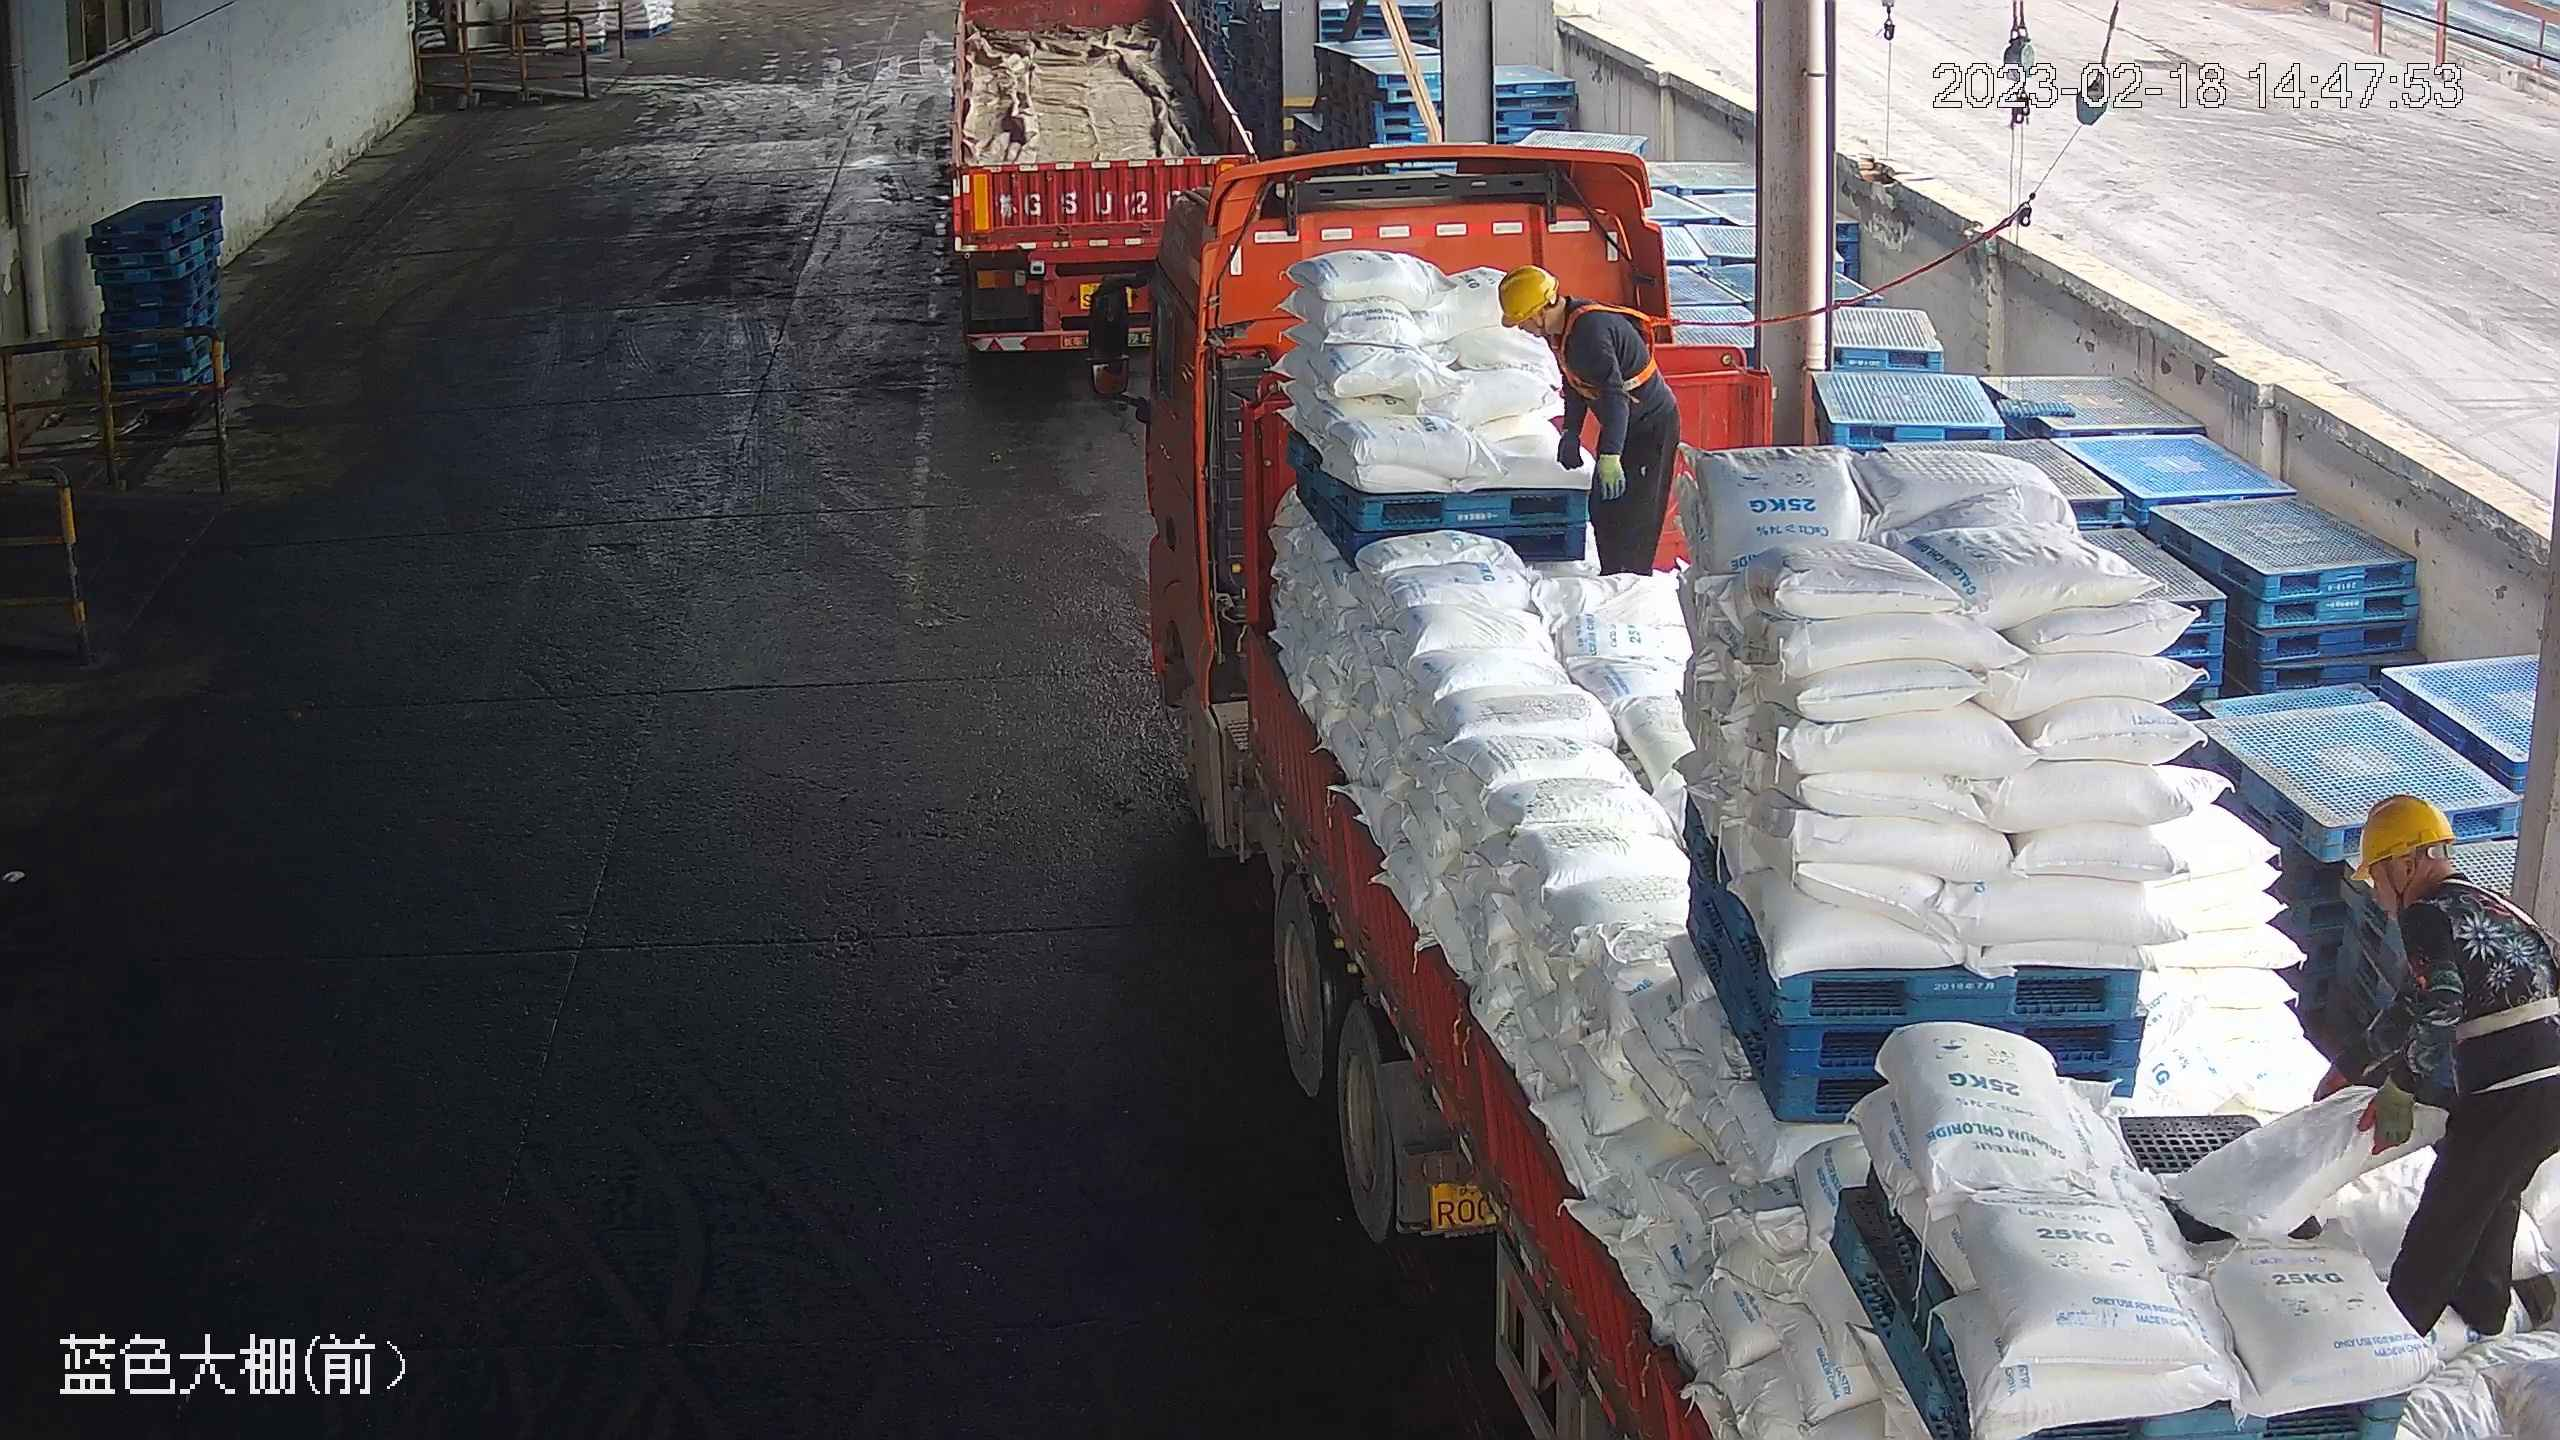belt: (2419, 884, 2560, 1042), (1549, 298, 1661, 398)
head: (2342, 790, 2543, 971), (1495, 264, 1643, 383)
helmet: (2346, 791, 2458, 879), (1494, 262, 1560, 329)
people: (2312, 792, 2559, 1342), (1494, 261, 1684, 580)
truck: (1083, 141, 2560, 1440), (946, 3, 1263, 357)
